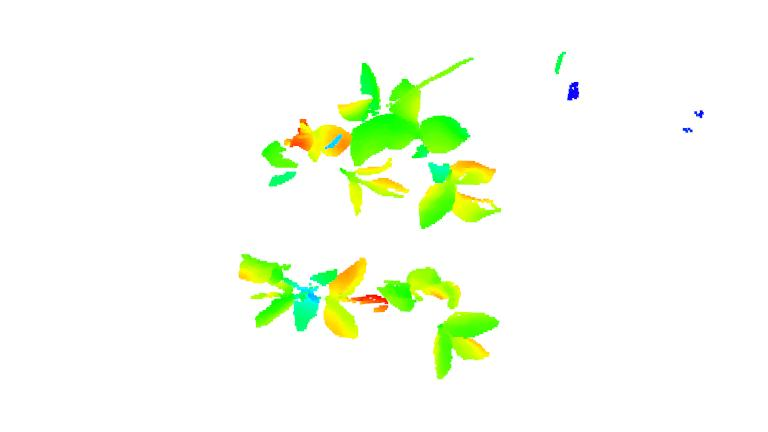mungbean: (239, 64, 390, 219), (379, 76, 498, 234), (371, 260, 504, 376), (238, 249, 371, 340)
